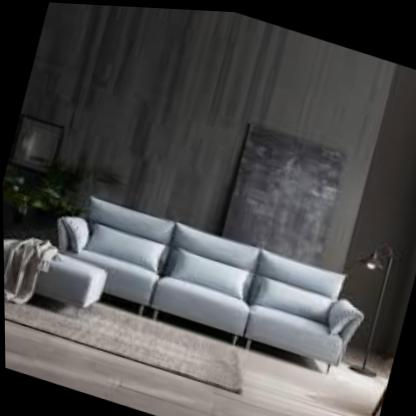Sofa: (2, 158, 389, 416)
